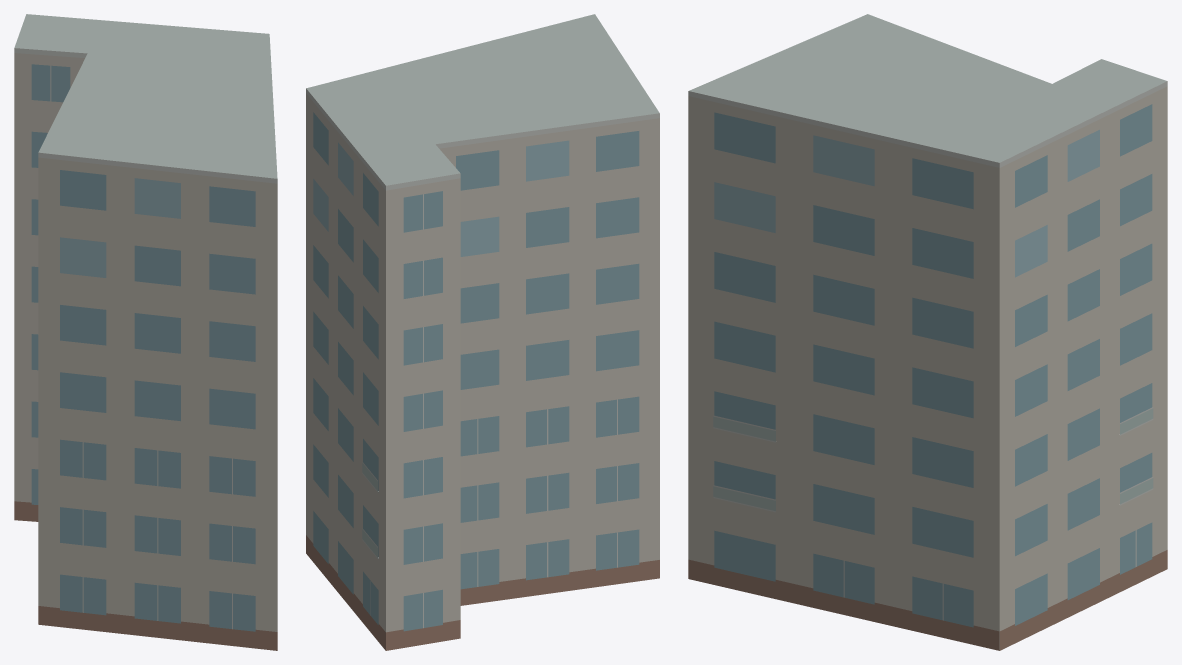
File: survey-upis-32693394.glb
3 renders of one model, left to right at view 1: azimuth 30°, elevation 25°; view 2: azimuth 150°, elevation 25°; view 3: azimuth 270°, elevation 25°, orthographic. The views are drawn at different scales.
Visible parts, largest first — view 1: survey-upis-32693394.tmp; view 2: survey-upis-32693394.tmp; view 3: survey-upis-32693394.tmp.
Boxes of the visible parts, x1,y1,x2,y2 form: survey-upis-32693394.tmp: [14, 14, 277, 650]; survey-upis-32693394.tmp: [306, 14, 659, 650]; survey-upis-32693394.tmp: [688, 14, 1167, 650].
Bounding box in the file's own units: 15.32 × 23.4 × 20.83.
